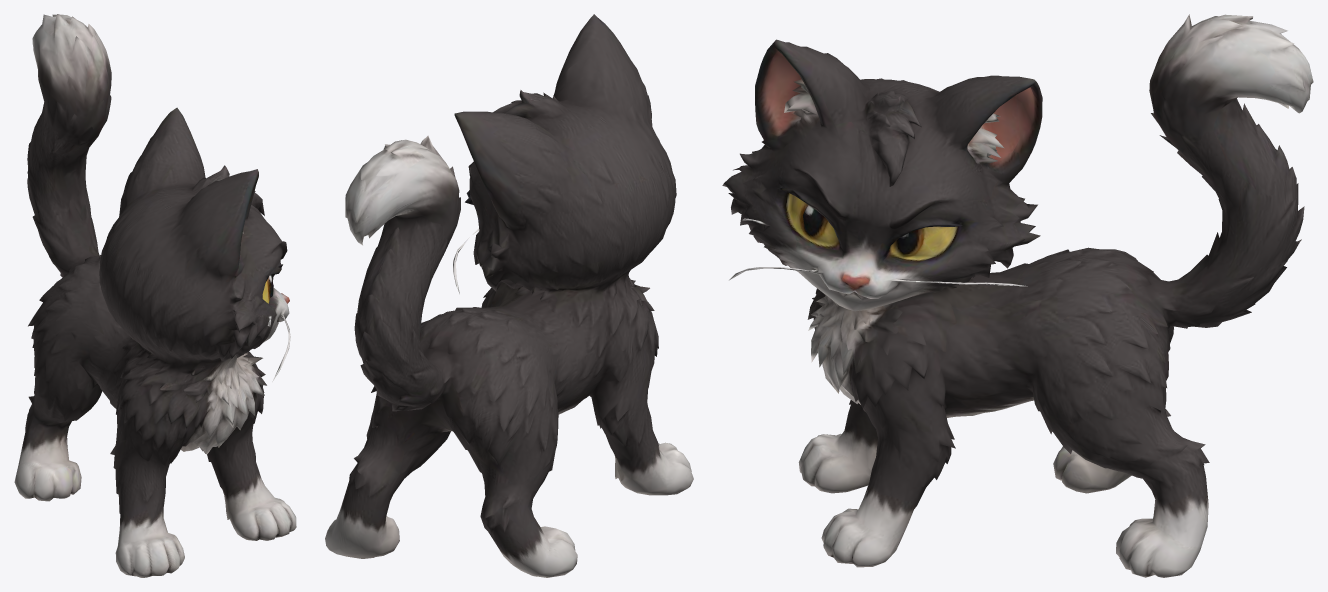
Rendered from greycat.glb.
3 views of the same model, side by side, from view 1: azimuth 30°, elevation 25°; view 2: azimuth 150°, elevation 25°; view 3: azimuth 270°, elevation 25° (orthographic). The views are drawn at different scales.
Parts seen in each view (by area): view 1: greycat; view 2: greycat; view 3: greycat.
Boxes of the visible parts, x1,y1,x2,y2 form: greycat: [14, 14, 296, 577]; greycat: [325, 14, 693, 577]; greycat: [722, 14, 1313, 577].
Bounding box in the file's own units: 0.4868 × 0.9528 × 1.
Materials: 1 (1 with a texture image).
